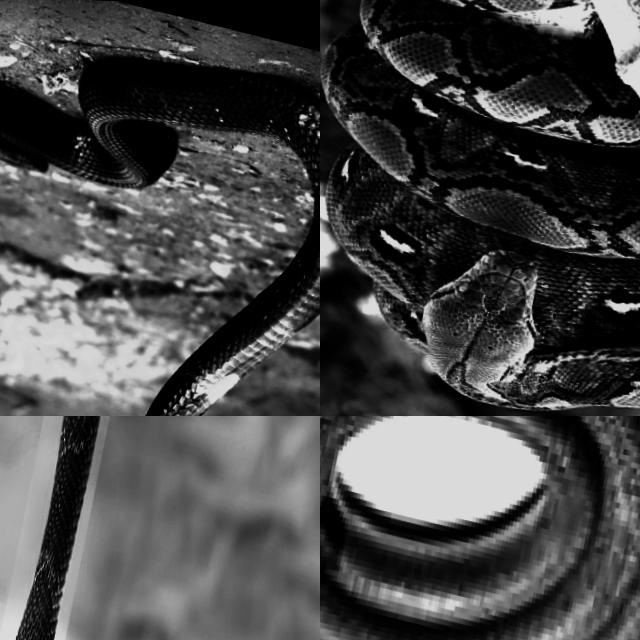Calliophis maculiceps: (320, 416, 639, 639)
Malayopython reticulatus: (322, 0, 639, 409)
Naja kaouthia: (16, 416, 100, 639)
Ophiophagus hannah: (0, 59, 319, 415)
